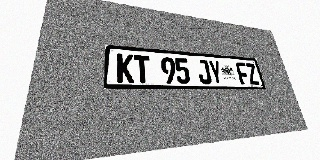5: (175, 58, 191, 84)
9: (161, 57, 177, 84)
F: (235, 62, 251, 85)
J: (196, 59, 212, 84)
K: (117, 53, 134, 83)
T: (134, 55, 151, 83)
Y: (208, 60, 224, 84)
Z: (245, 63, 260, 85)
